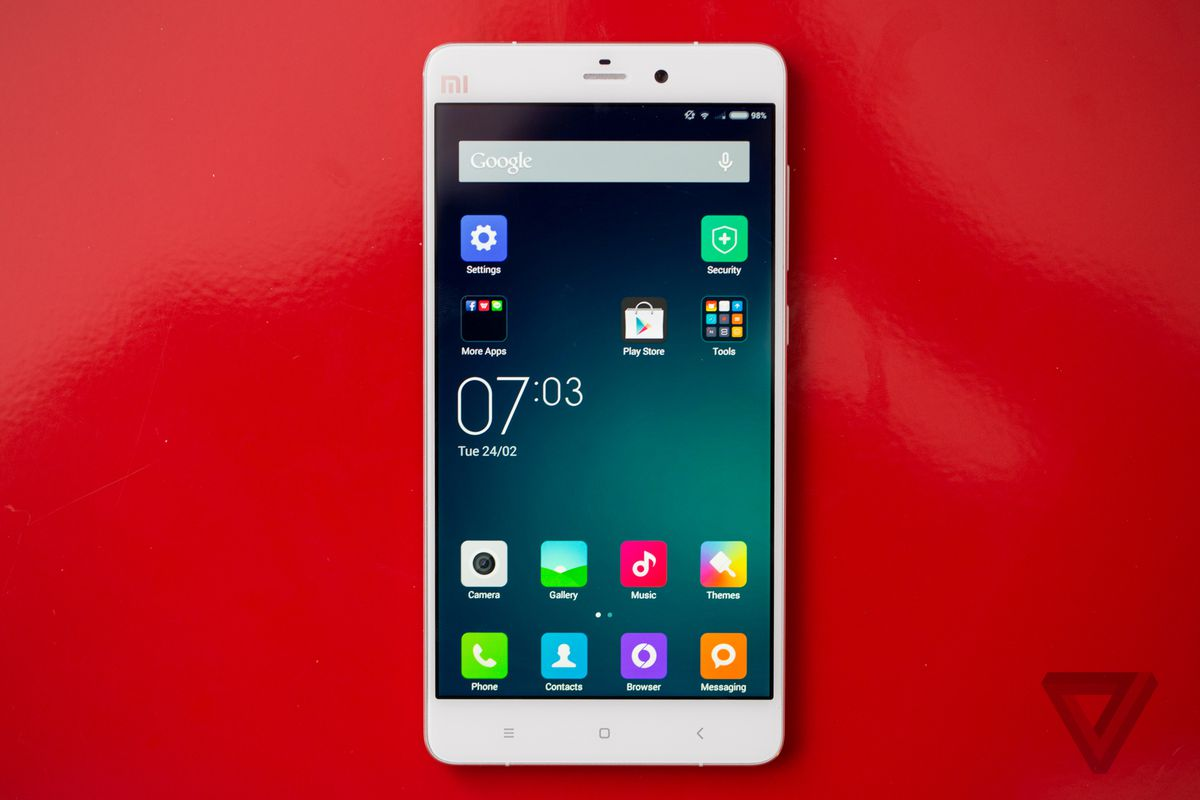smartphone: (423, 42, 790, 766)
